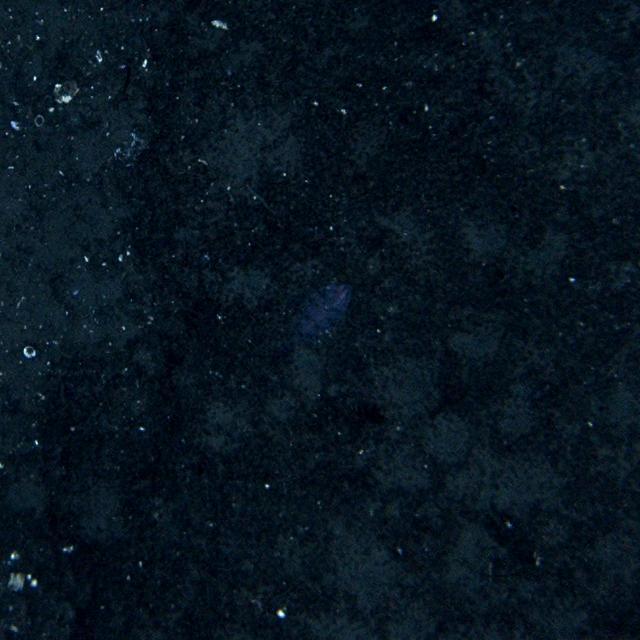flatfish: (290, 278, 354, 344)
